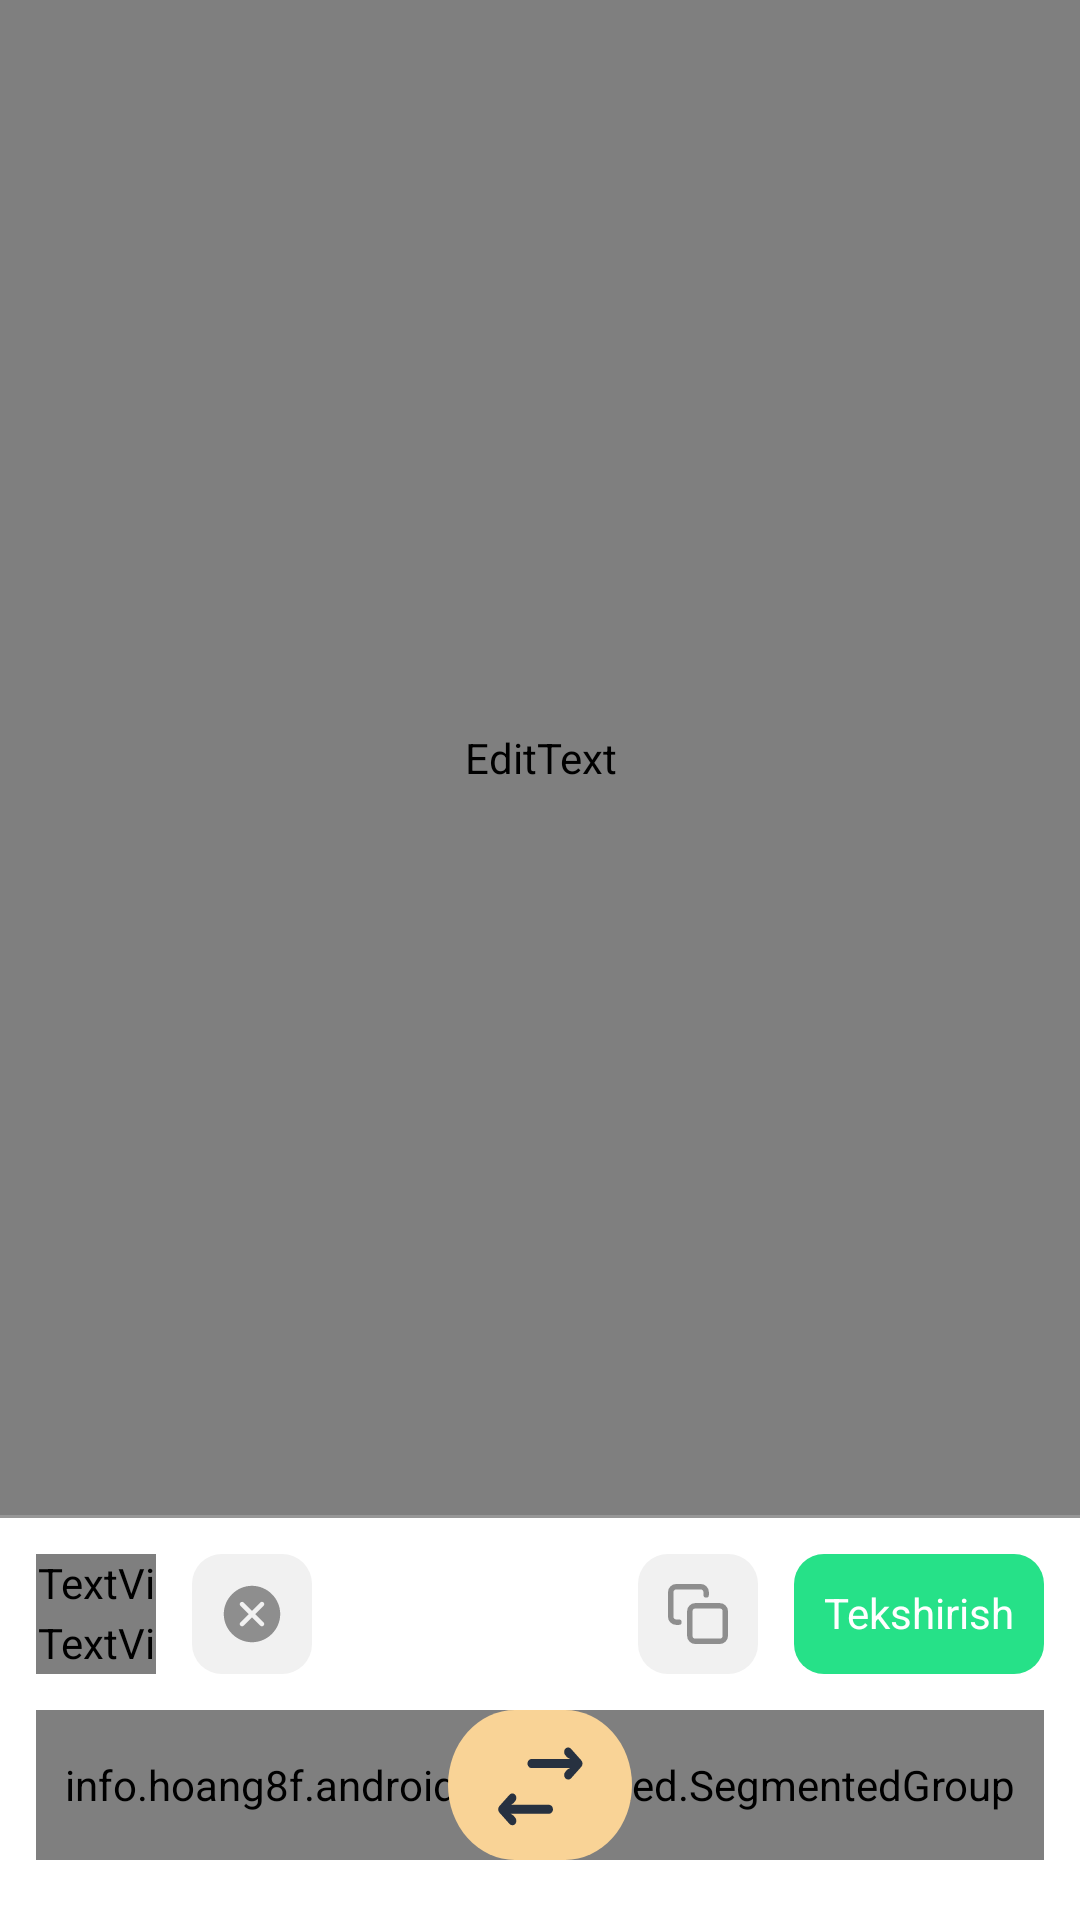

Icon click points for this 1080x1920 phone screenshot, format (x,y):
change: (540,1785)
close: (252,1614)
